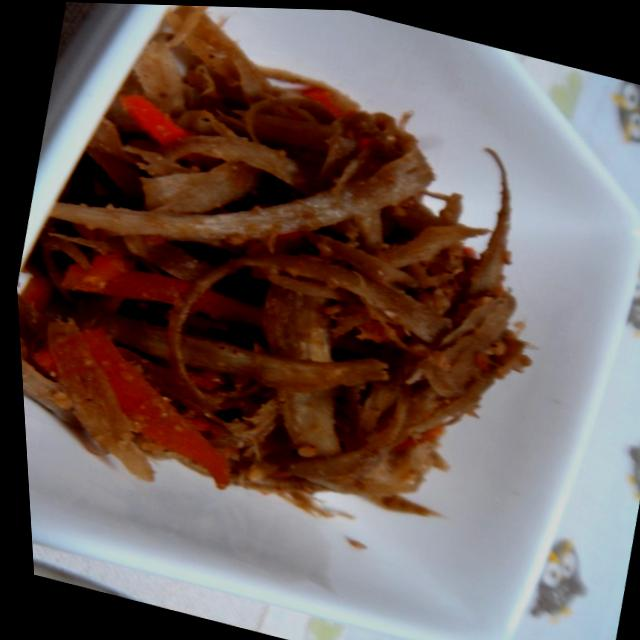蔬菜料理: (0, 0, 581, 566)
